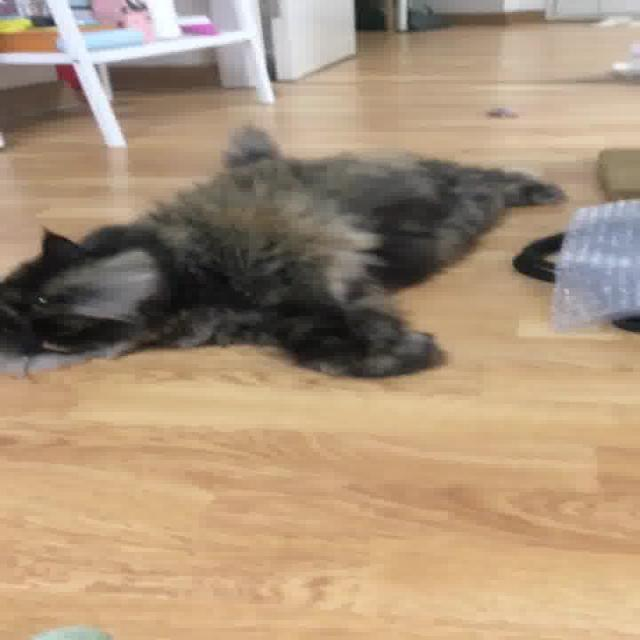cat: (0, 109, 584, 392)
